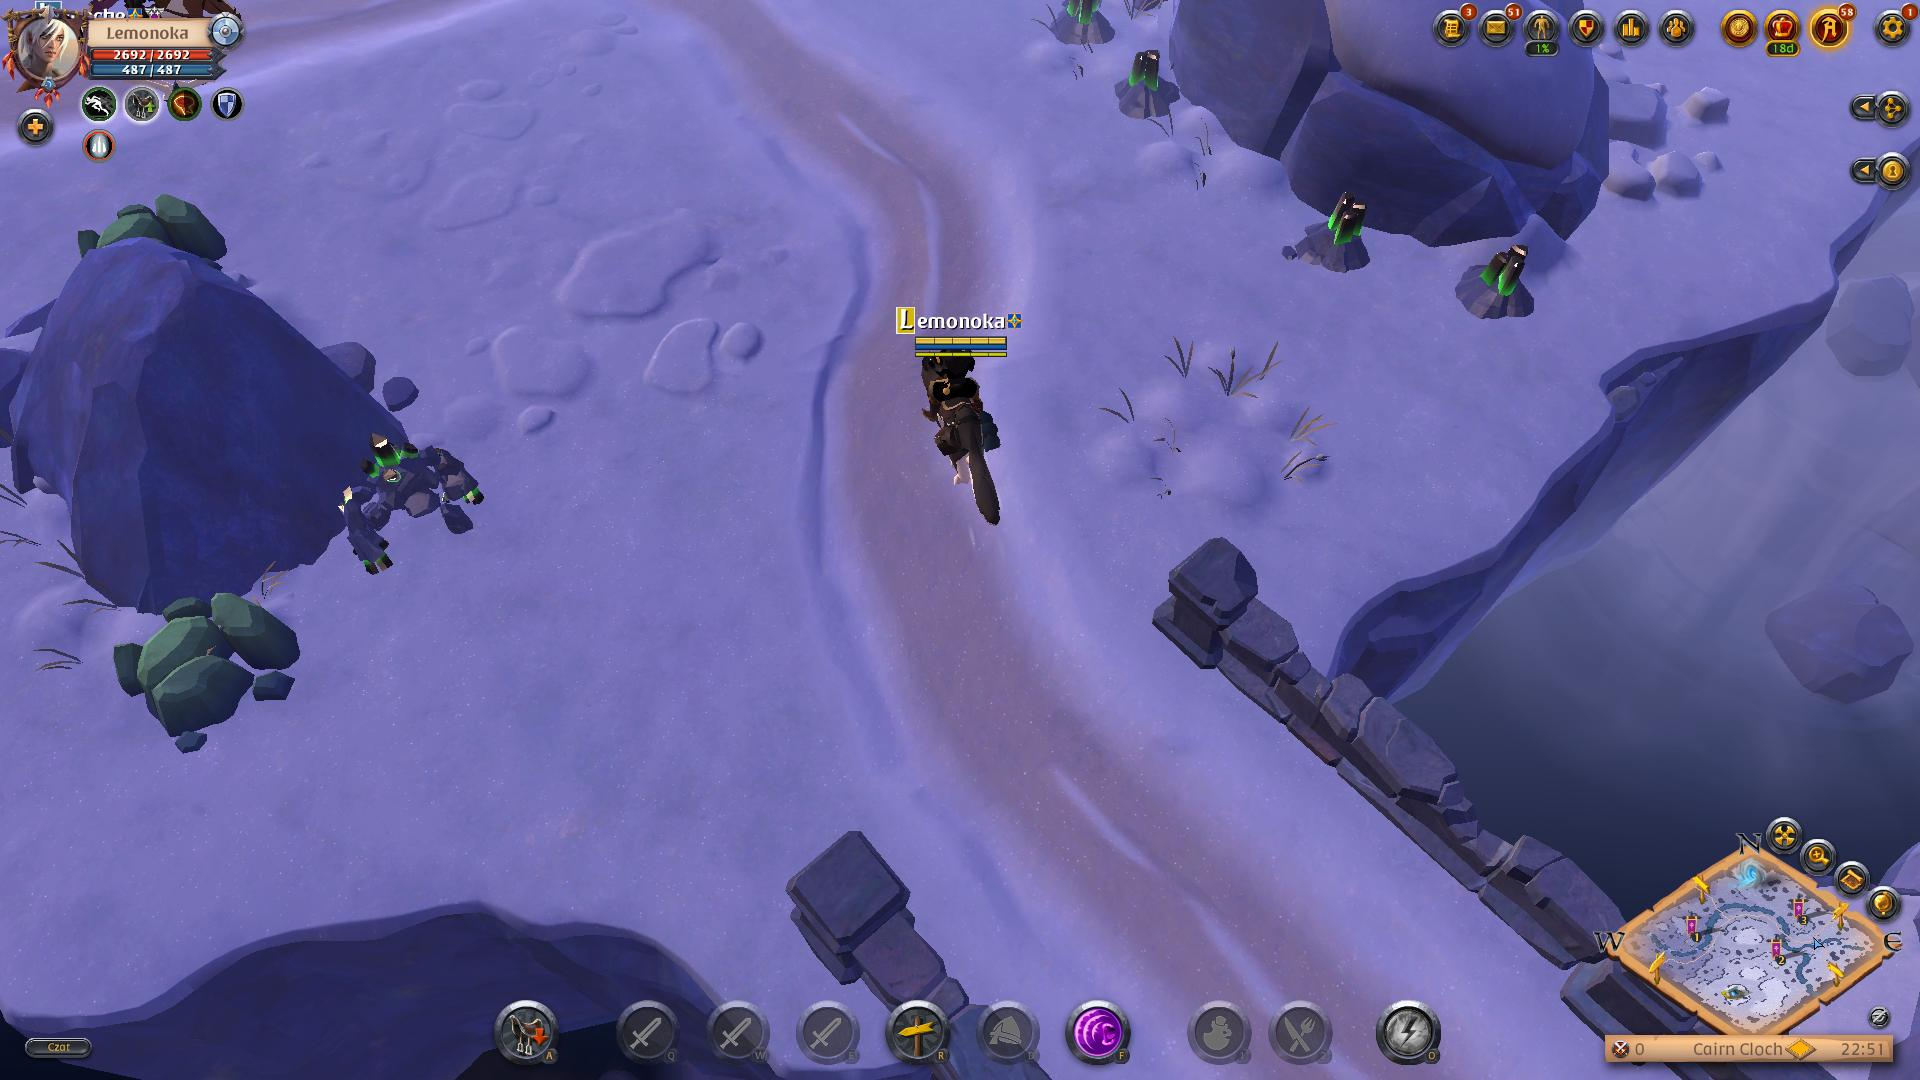ore tier 3: (1456, 241, 1542, 334), (1292, 190, 1375, 284), (1108, 50, 1176, 124), (1056, 0, 1116, 47)
rock tier 3: (108, 583, 305, 745)
